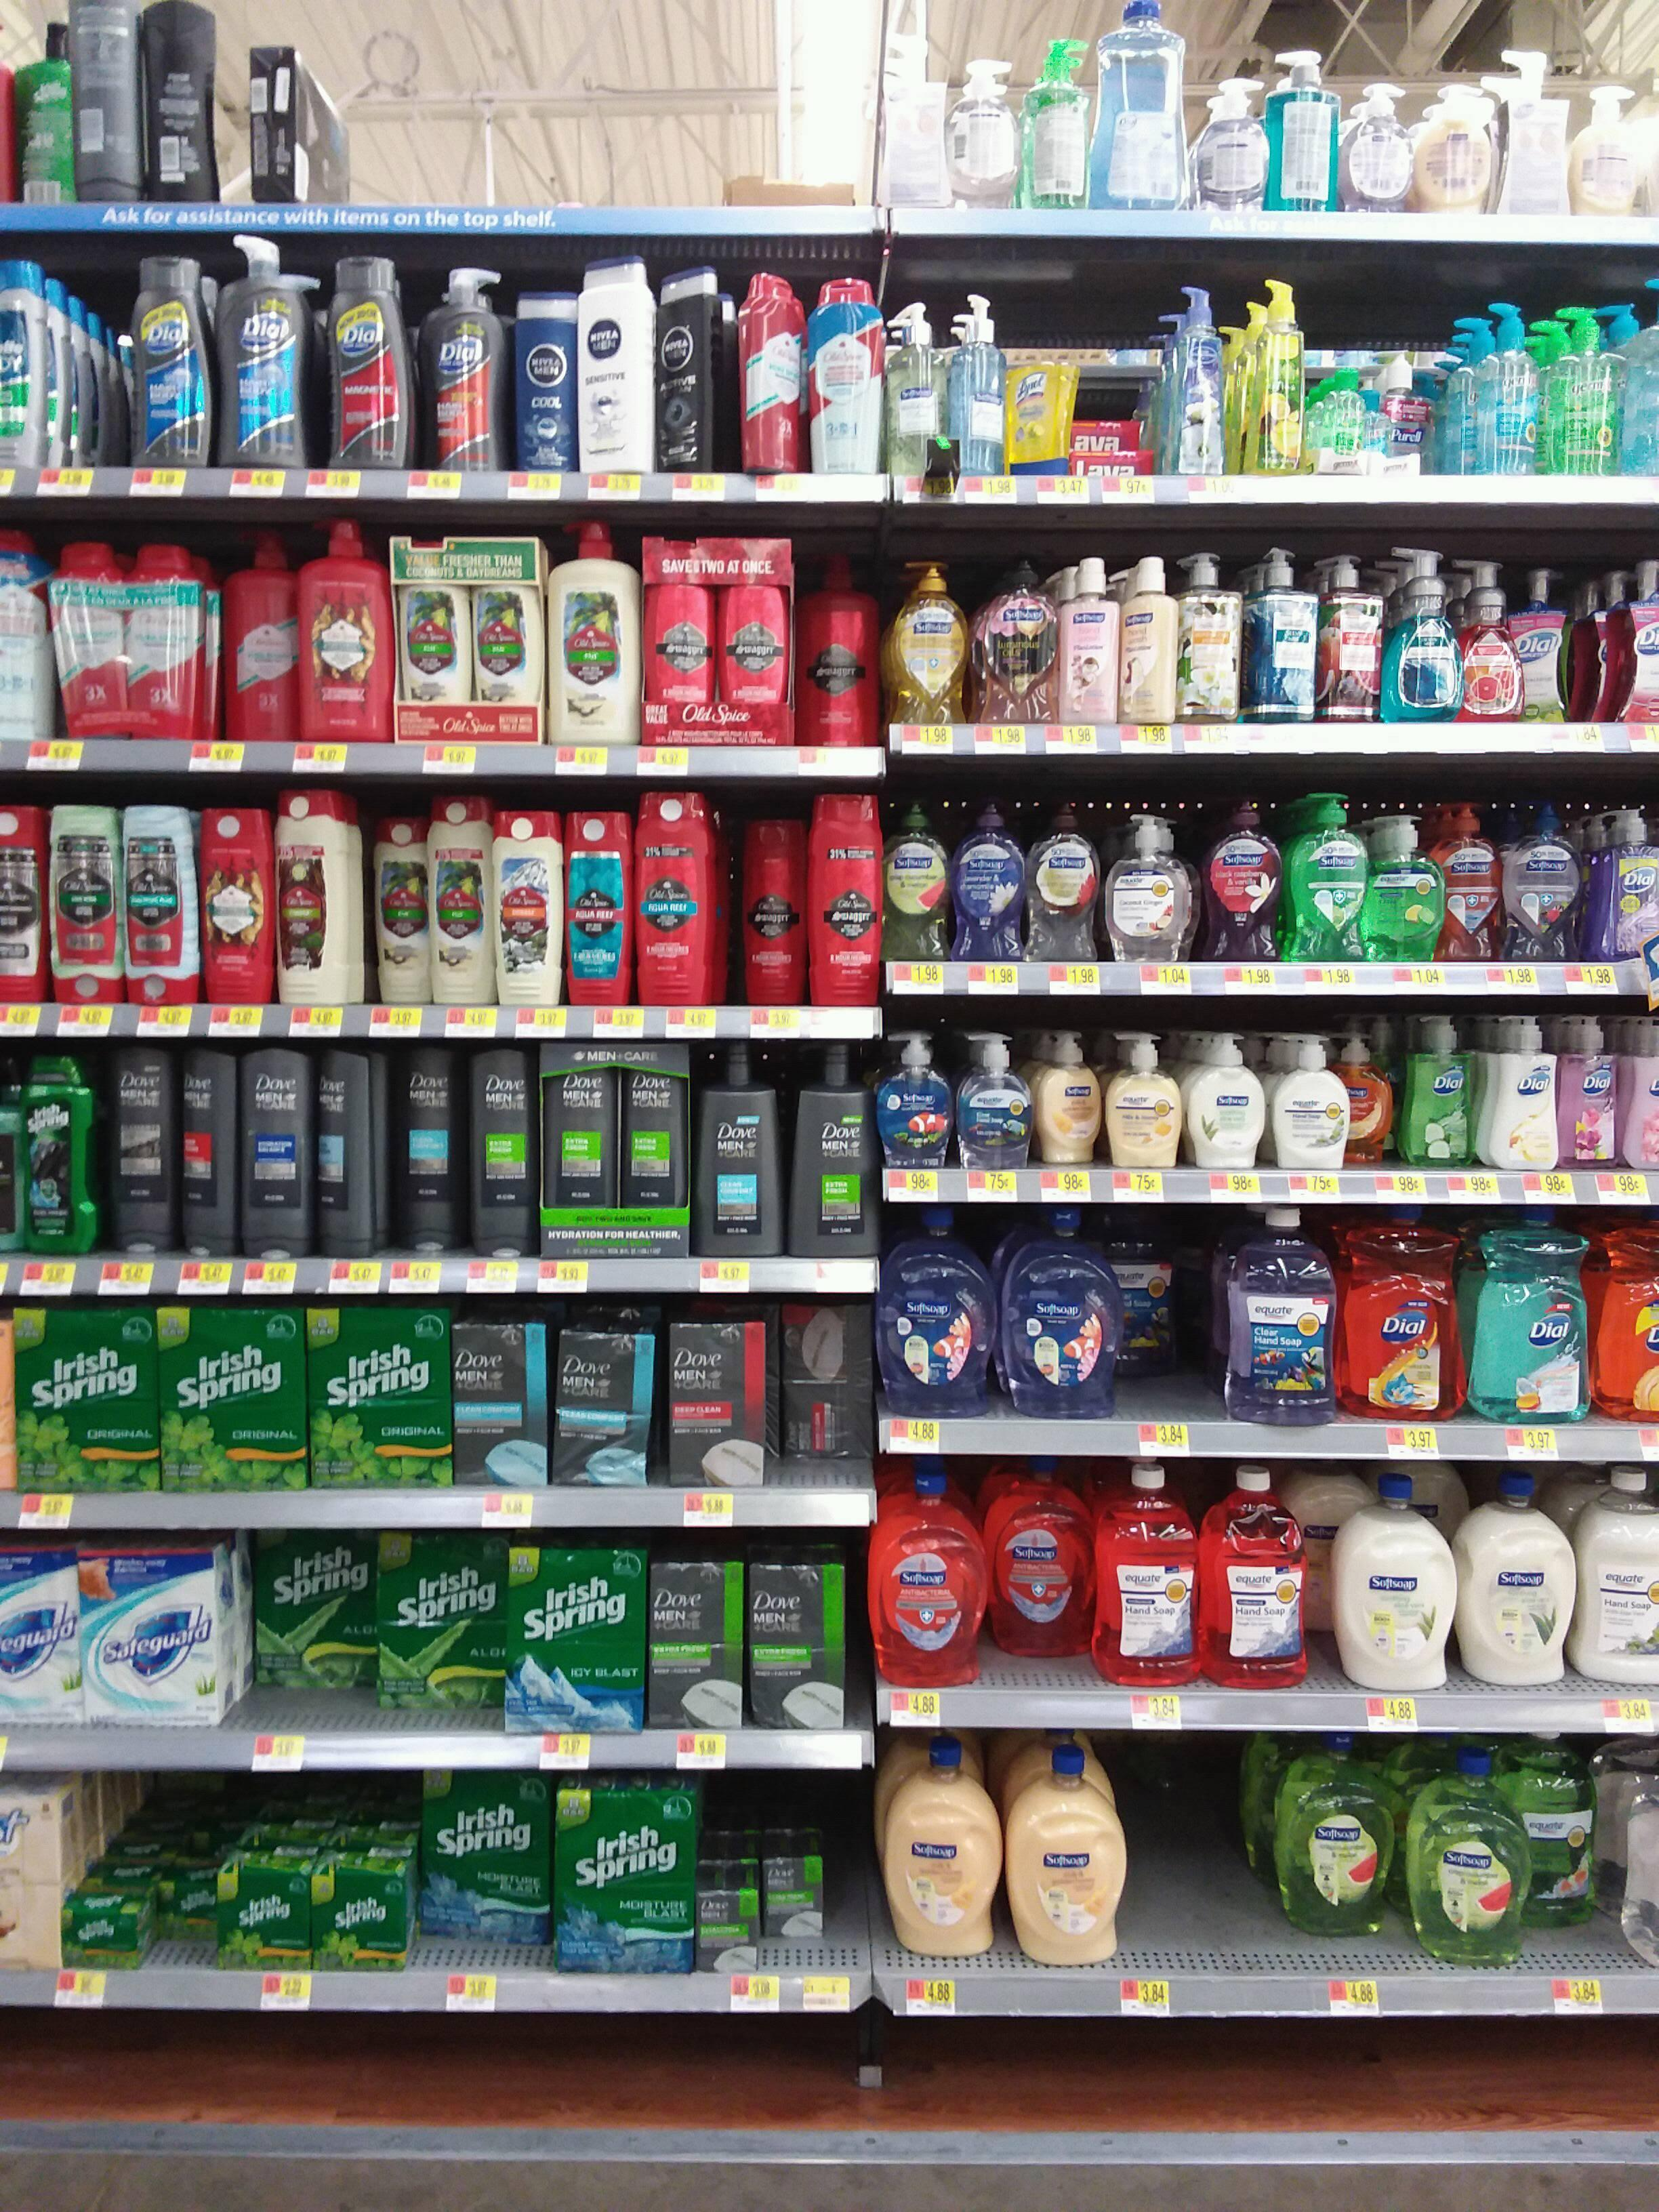empty: (1126, 1766, 1263, 1972), (1127, 1264, 1237, 1432)
